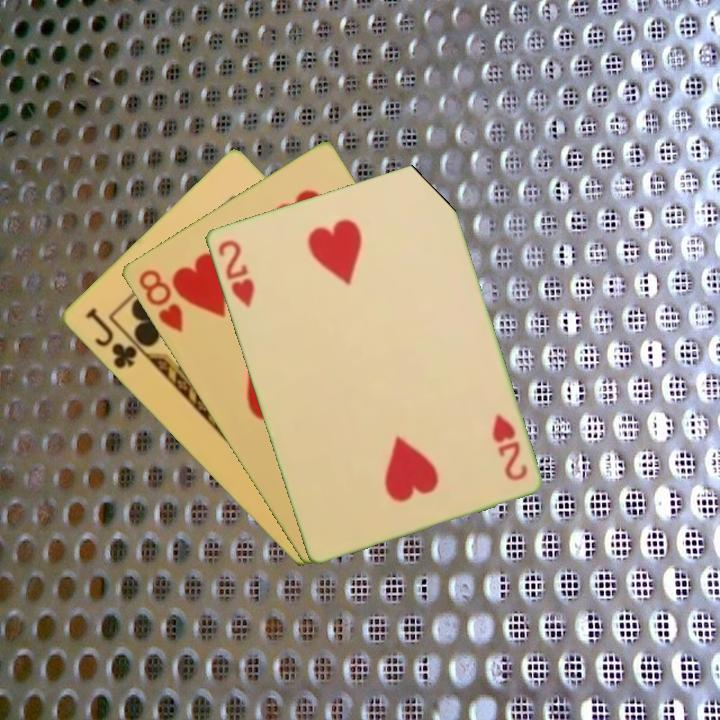2h: (487, 409, 530, 484), (214, 236, 257, 310)
8h: (134, 265, 186, 336)
Jc: (81, 304, 140, 372)
